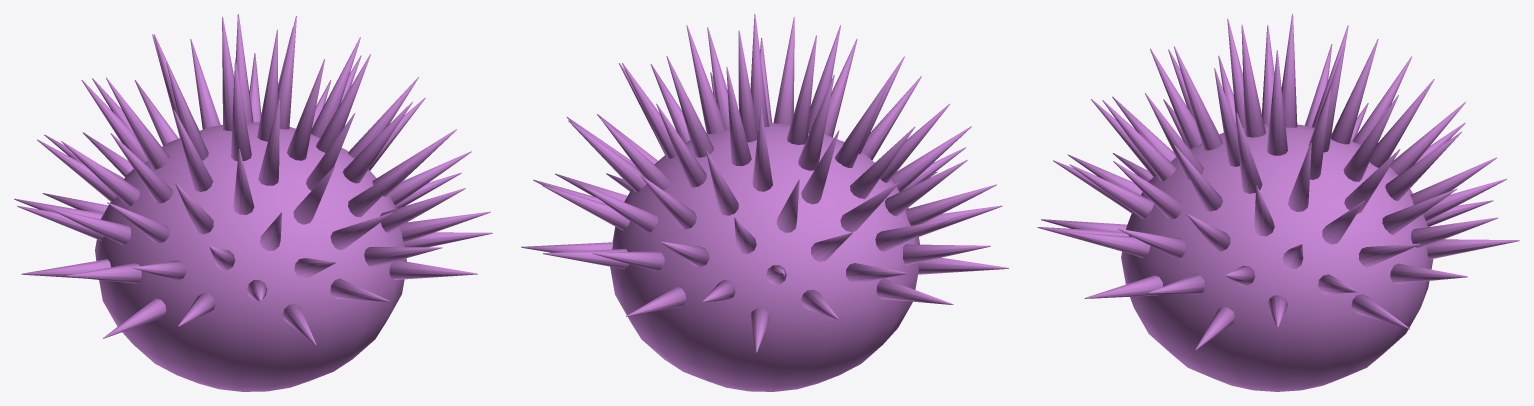
Rendered from underwater-reef-worlds-sea-urchin-44b44c12__7023.glb.
3 views of the same model, side by side, from view 1: azimuth 30°, elevation 25°; view 2: azimuth 150°, elevation 25°; view 3: azimuth 270°, elevation 25° (orthographic).
Parts seen in each view (by area): view 1: sea-urchin; view 2: sea-urchin; view 3: sea-urchin.
Part boxes in pixels (x1,y1,x2,y2): sea-urchin: (14,14,492,391); sea-urchin: (521,14,1008,391); sea-urchin: (1037,14,1519,391).
Size of the model in its own units: 0.71 by 0.5473 by 0.7096.
